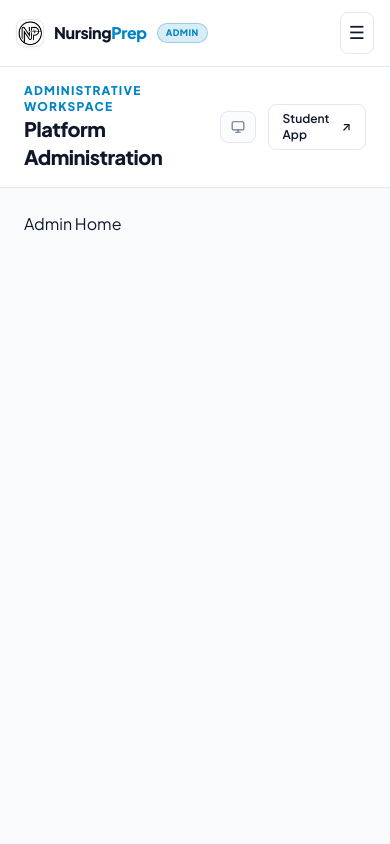
AdminLayout Mobile Nav Tests › menu button opens mobile navigation panel with correct aria attributes
// Click to open
Click the button named "Open navigation menu": (357, 33) [340,12,374,54]
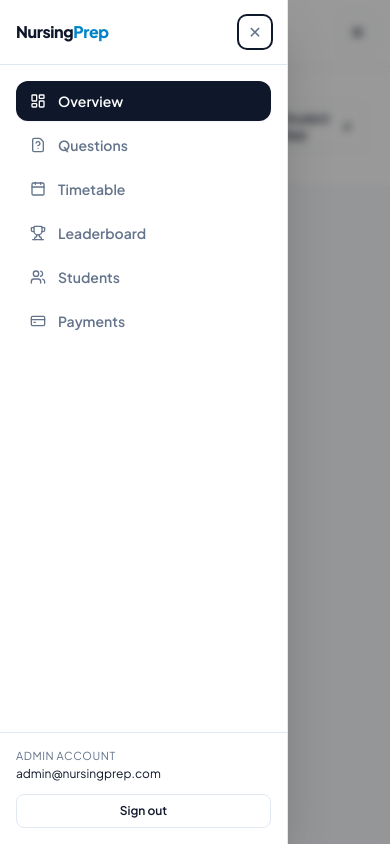
Check: the dialog named "Navigation menu" is shown
Check: the button named "Open navigation menu" is expanded, box [341,12,374,54]
